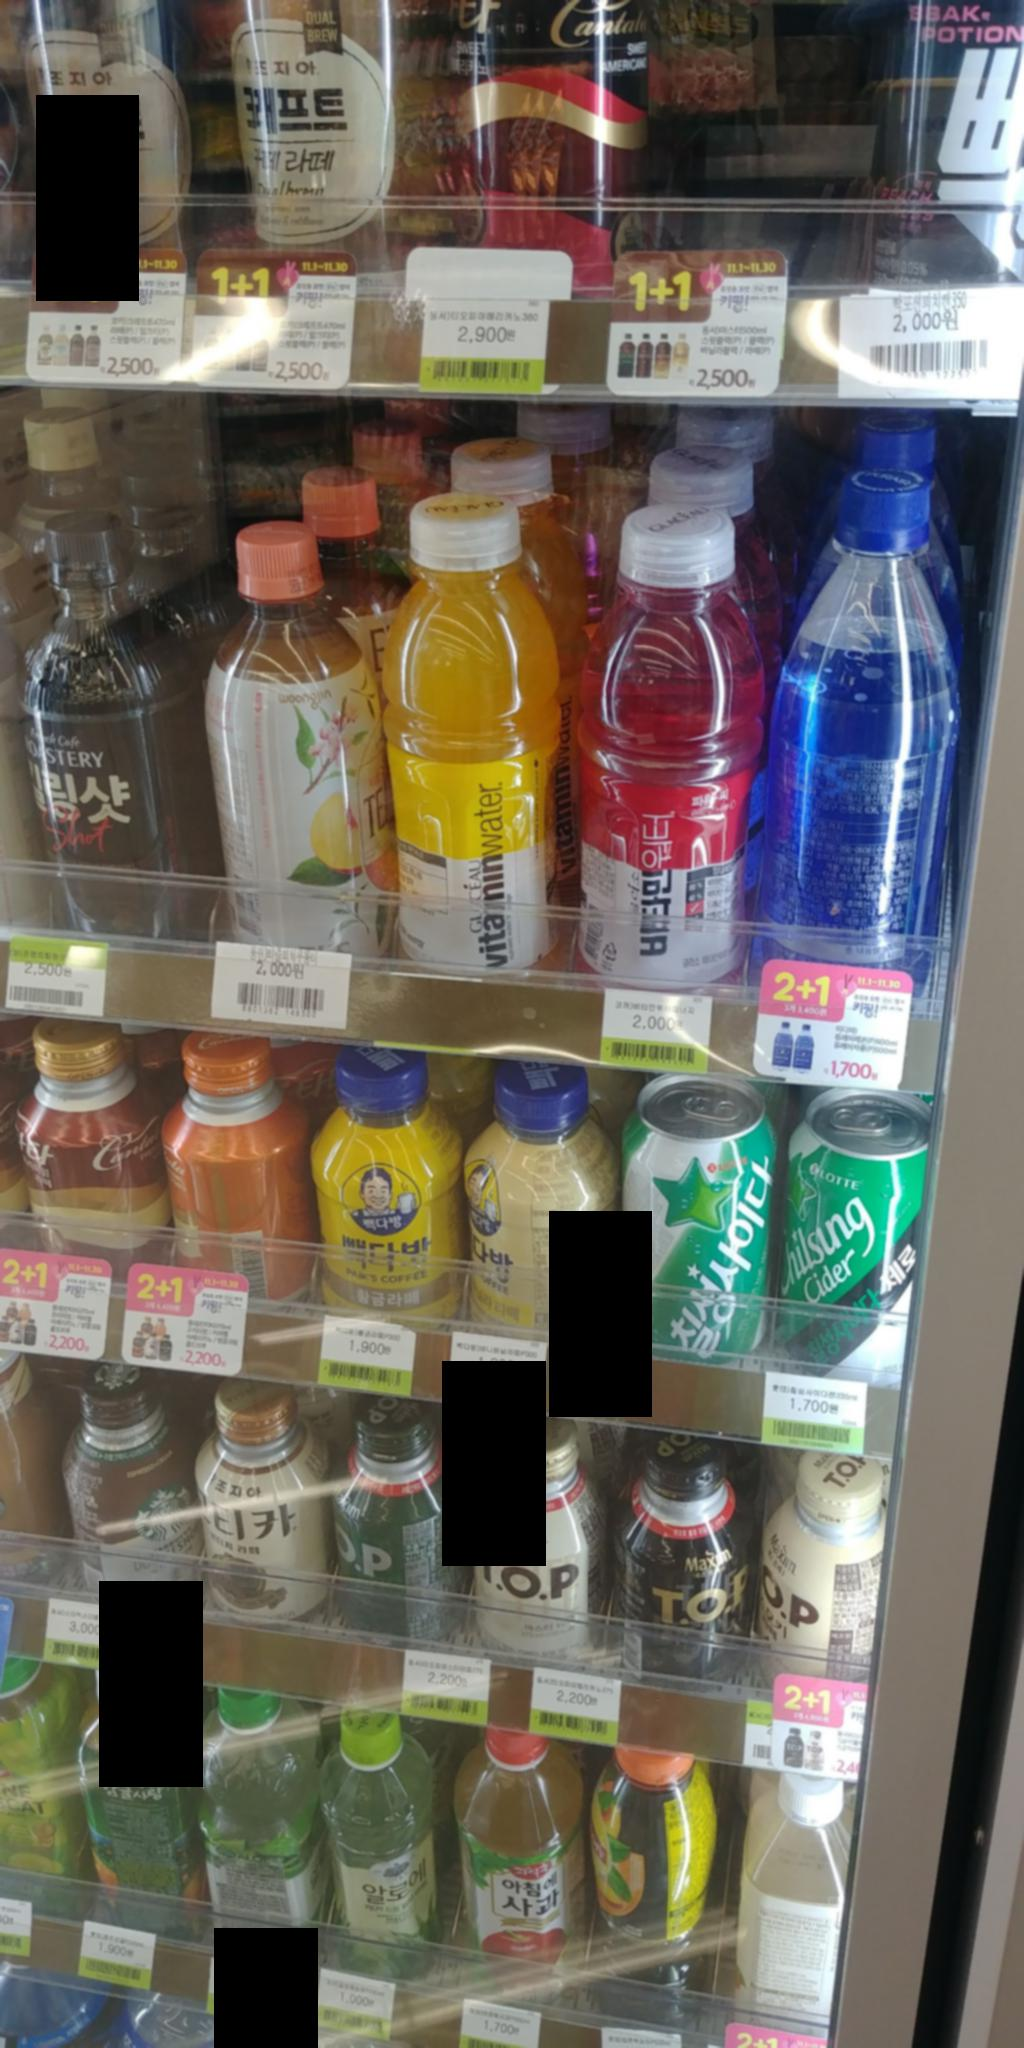TOP_black: (586, 1405, 750, 1701)
chilsungcider: (614, 1058, 794, 1378)
georgiacraft_black: (40, 0, 217, 243)
